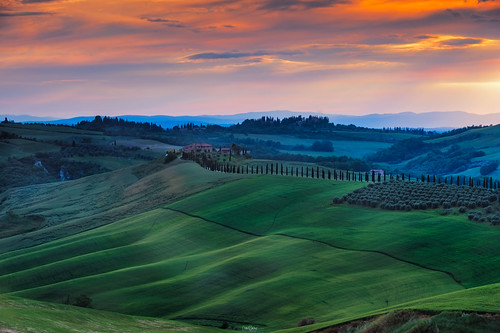building: (180, 139, 229, 163)
grass: (8, 170, 476, 306)
sky: (1, 1, 495, 112)
